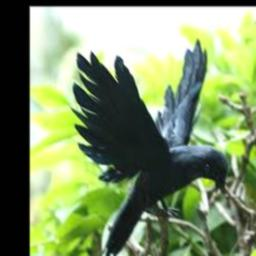Crow: (72, 37, 228, 256)
